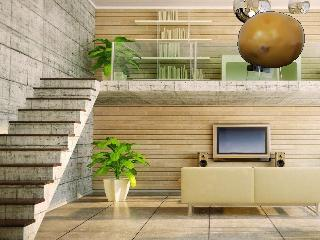potato: (235, 7, 307, 74)
